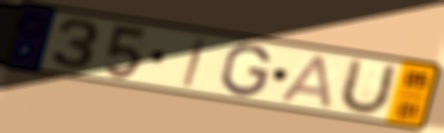3: (50, 18, 105, 72)
5: (101, 22, 152, 81)
A: (277, 53, 334, 111)
G: (218, 42, 274, 98)
I: (179, 35, 210, 90)
U: (334, 57, 400, 117)
